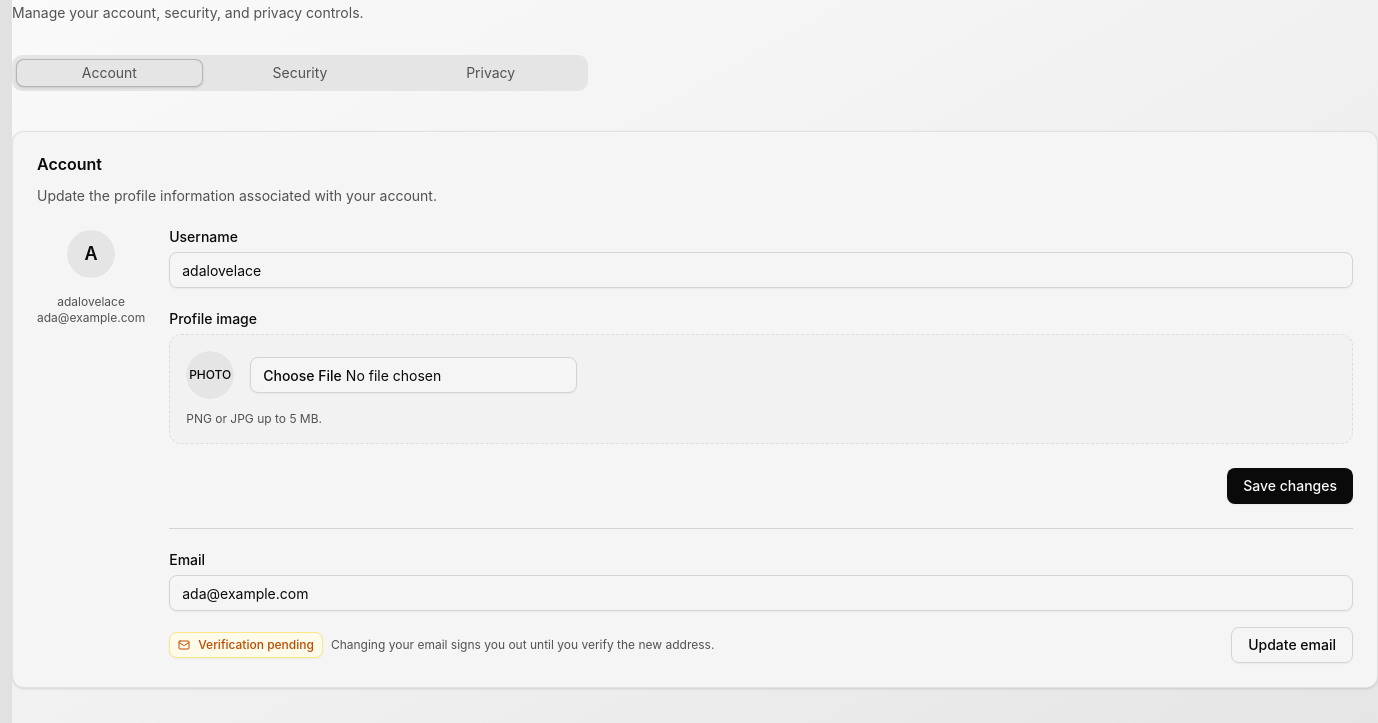
Settings › disables passphrase update when no passphrase is linked
The image size is (1378, 723).
Click the tab "Security" at (300, 73), box 207,59 -> 393,87
(page scrolled)
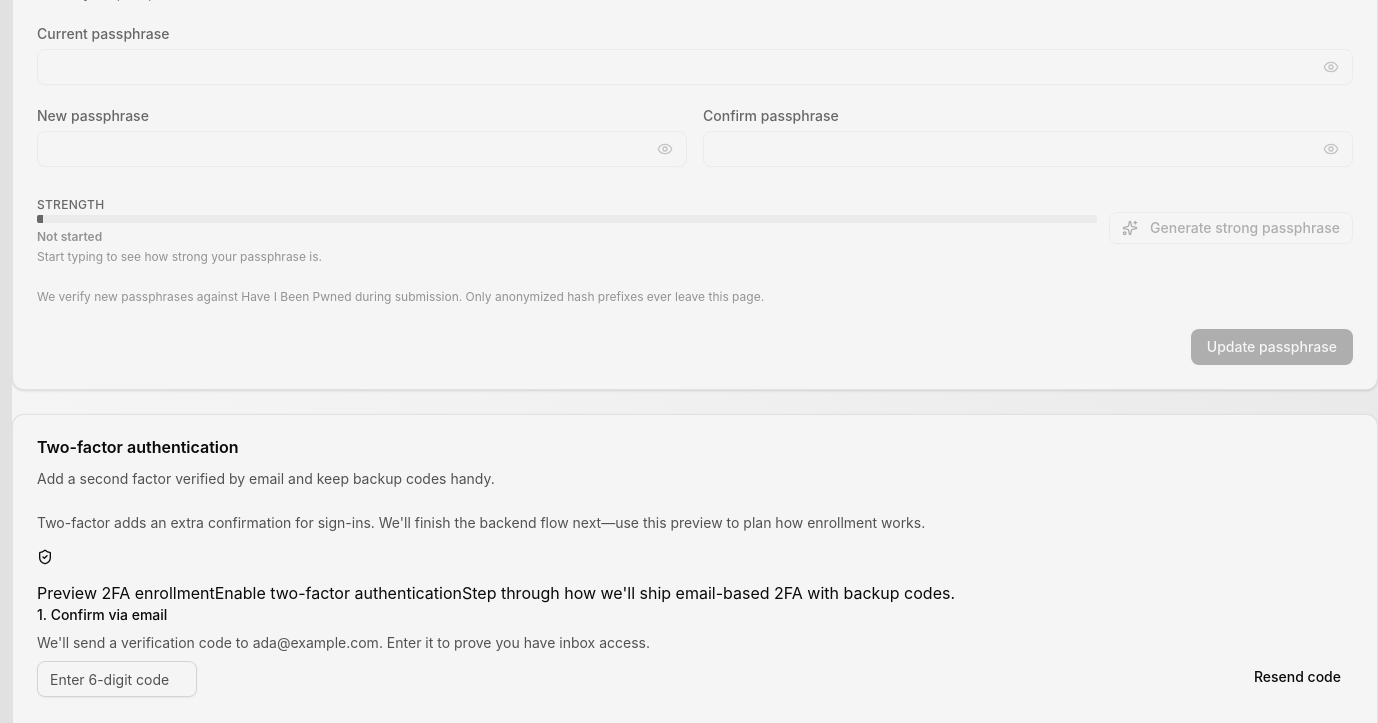
Expected: the button "Update passphrase" is disabled, 1191,329 -> 1353,365
